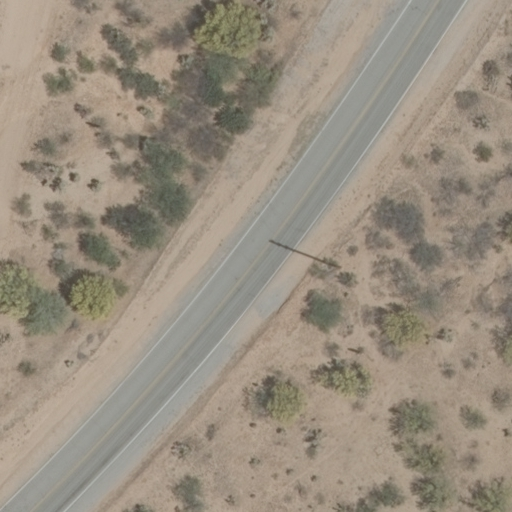DT: (319, 258, 346, 272)
